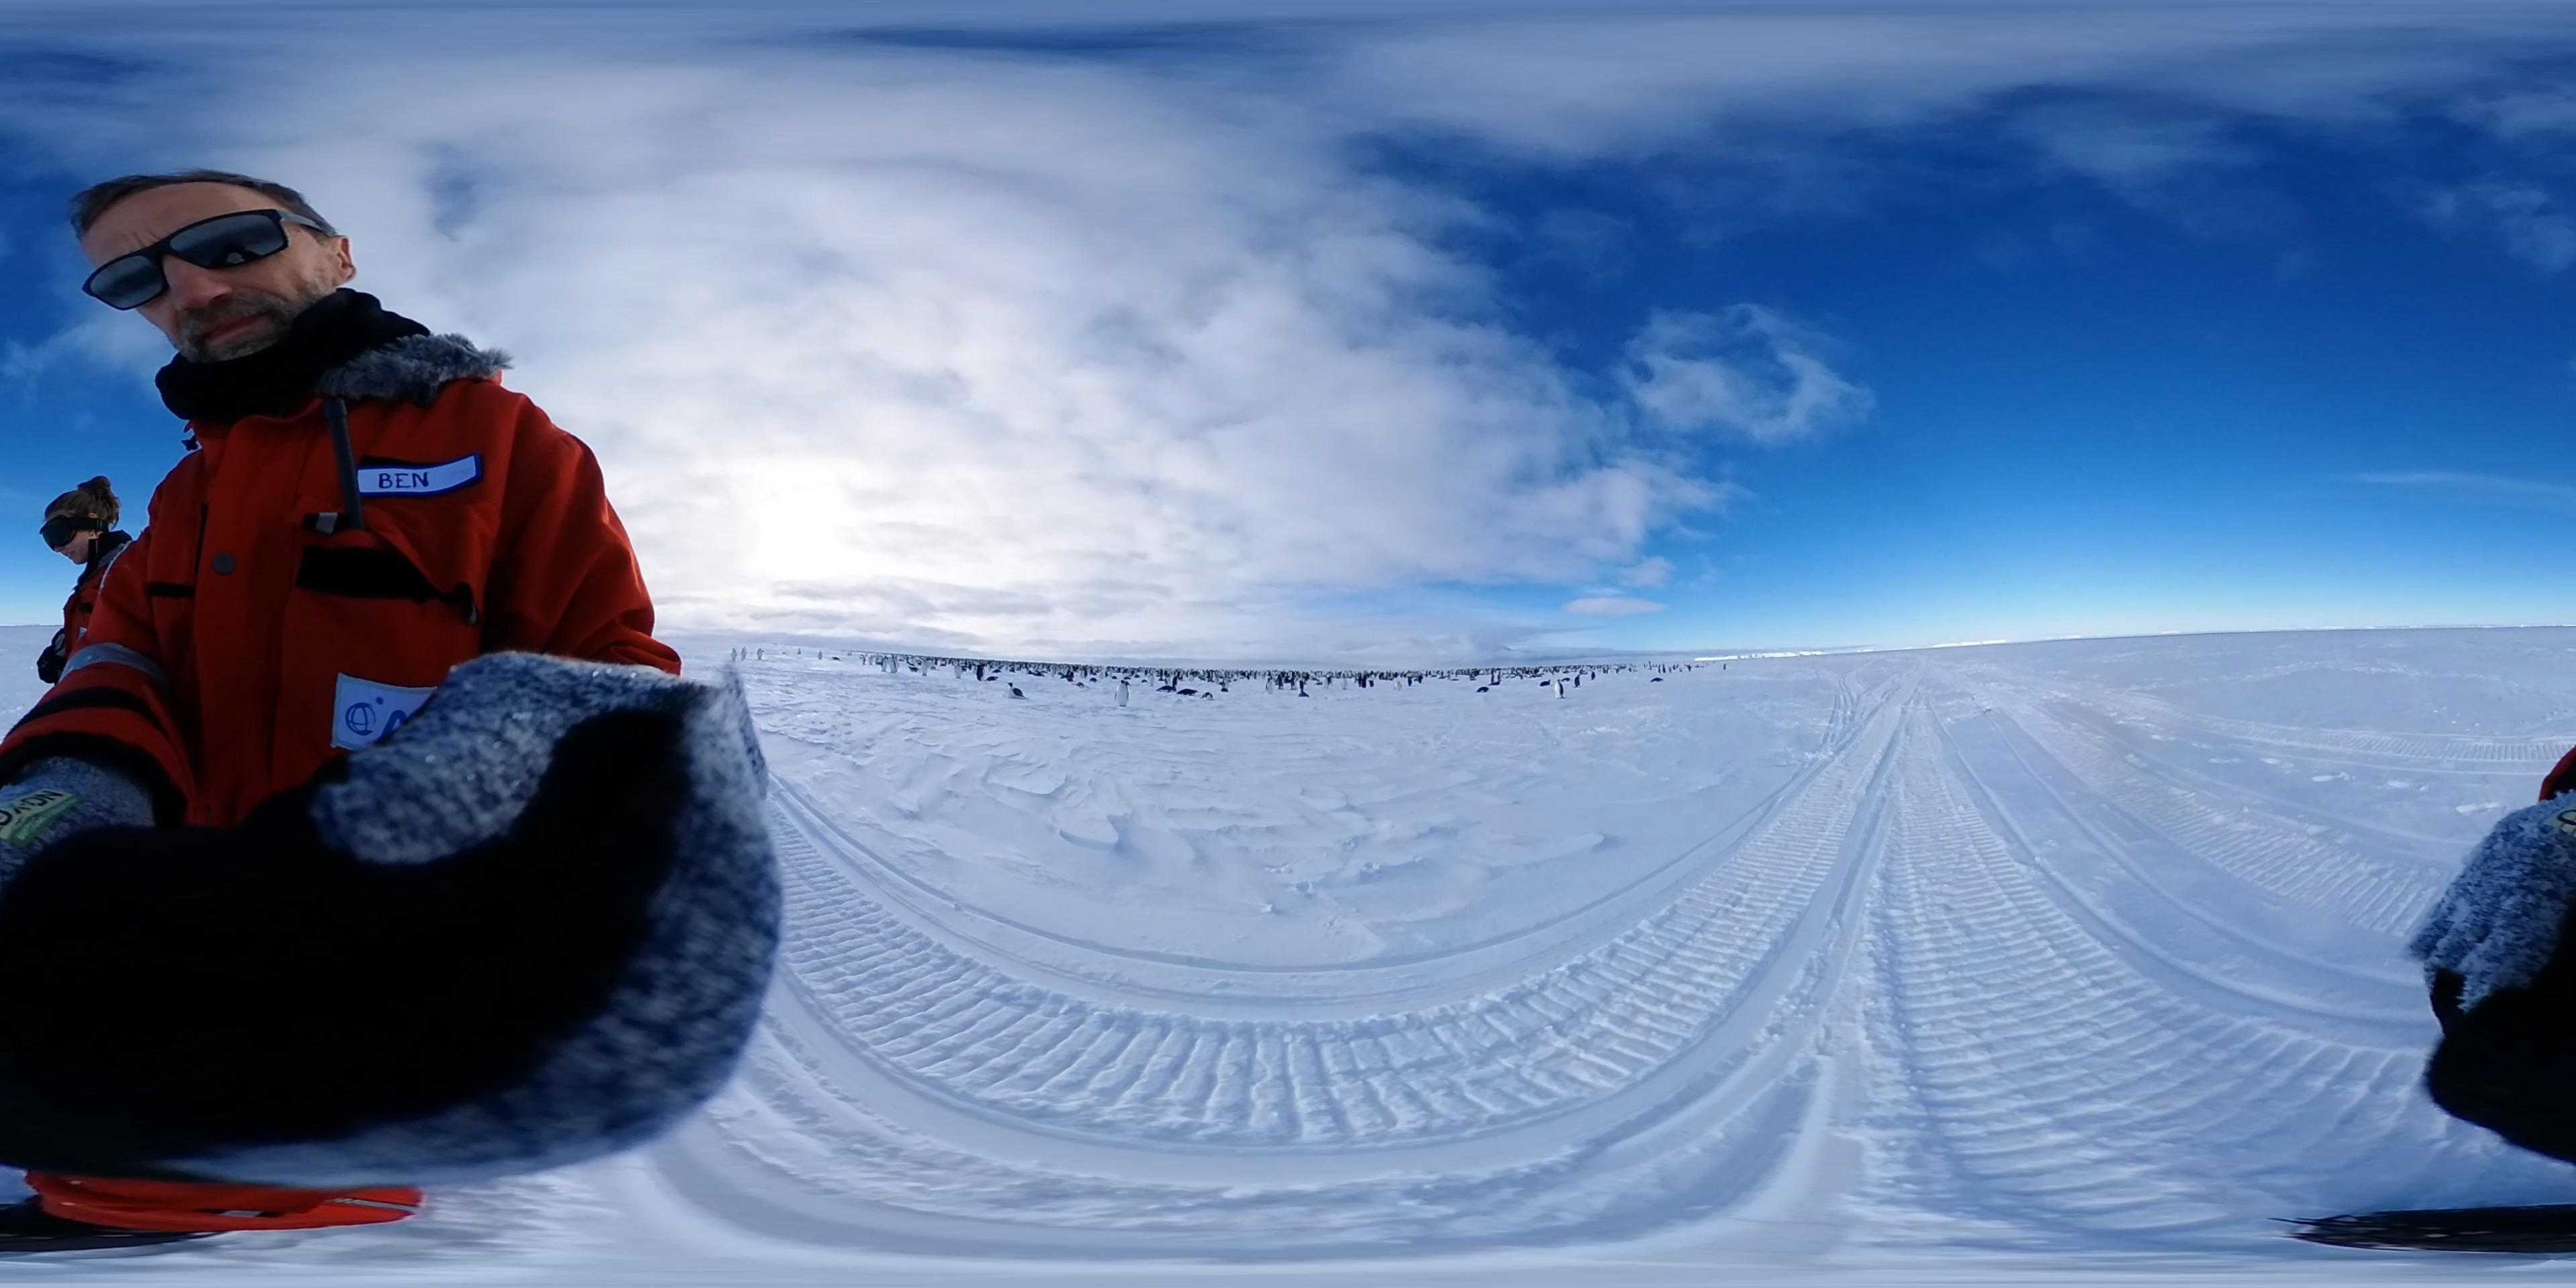adult_standing_penguin: (1112, 680, 1132, 708), (1552, 677, 1566, 703)
adult_toboggan_penguin: (1005, 680, 1030, 698), (1175, 688, 1199, 698), (1194, 690, 1217, 700), (1153, 685, 1171, 693), (1475, 685, 1490, 695)
researcher: (7, 164, 800, 1288), (33, 480, 143, 700)
